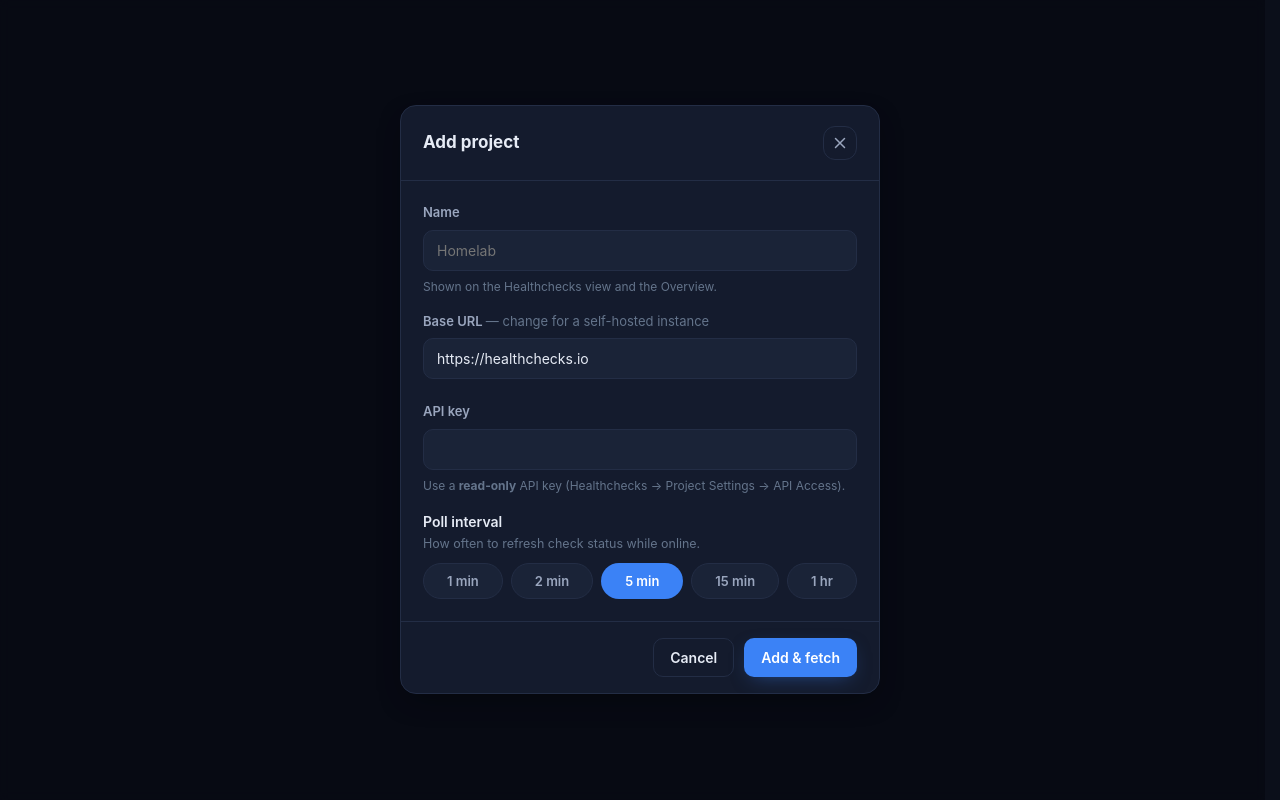
Test: ProjectModal › shows a generic error when the failure has no field
Click the button "Add & fetch" at {"x": 801, "y": 658}, box [744, 639, 857, 678]
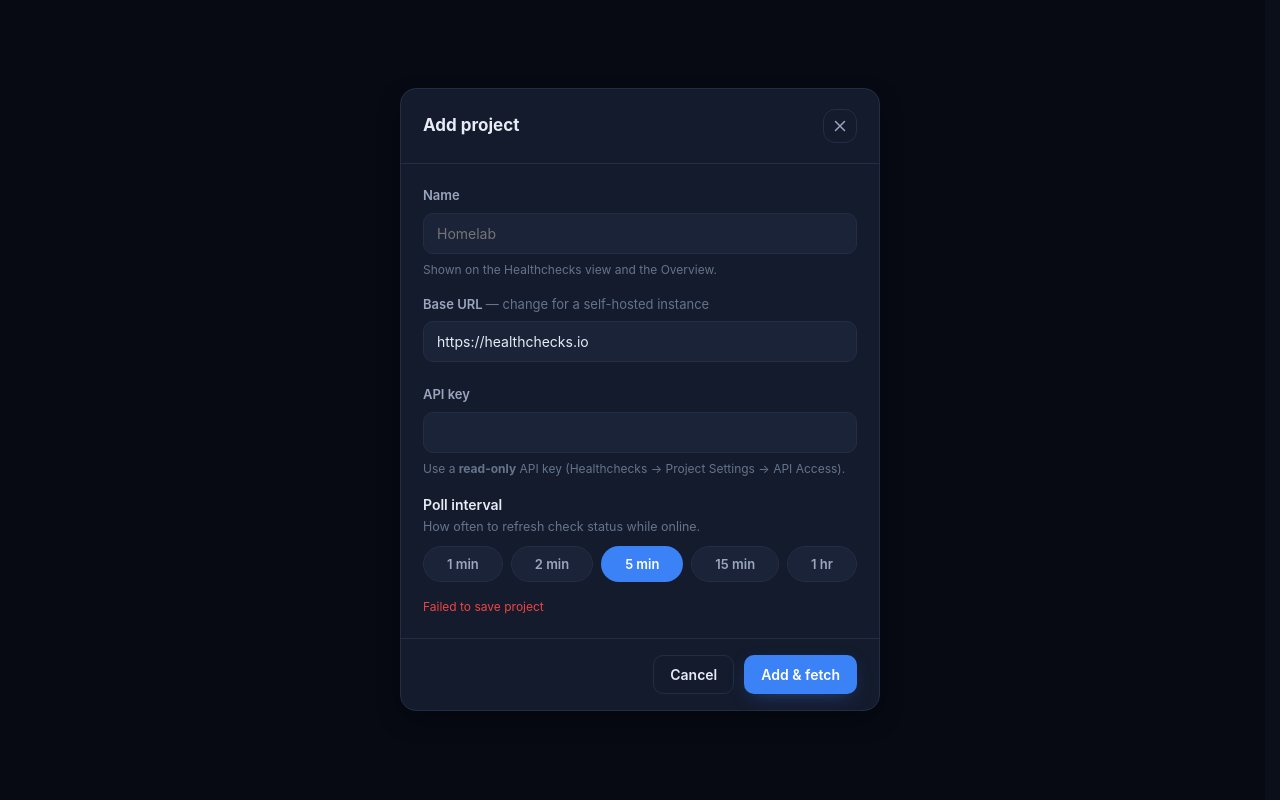
Now the text "Failed to save project" is shown, box [423, 600, 544, 615]
